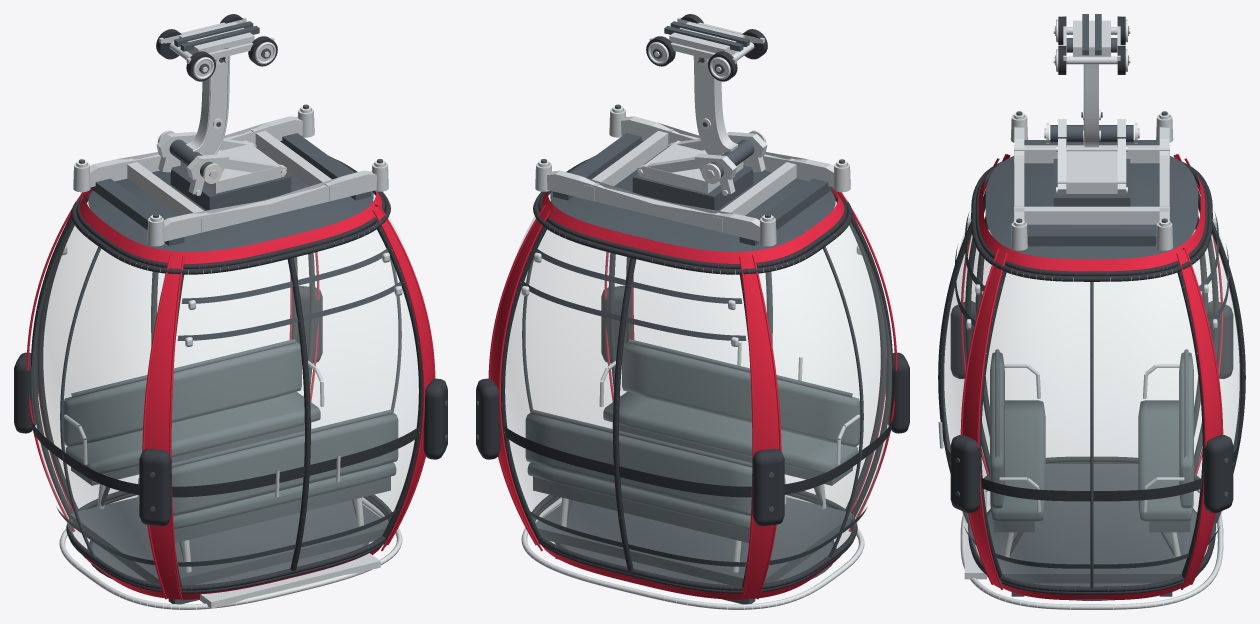
File: darb-cabin.glb
3 renders of one model, left to right at view 1: azimuth 30°, elevation 25°; view 2: azimuth 150°, elevation 25°; view 3: azimuth 270°, elevation 25°, orthographic. The views are drawn at different scales.
Parts seen in each view (by area): view 1: DARB_glass, DARB_cabinGraphite, DARB_cabinSeat, DARB_cabinRubber, DARB_cabinMetal, DARB_cabinRed, DARB_cabinMetalEdge; view 2: DARB_glass, DARB_cabinGraphite, DARB_cabinSeat, DARB_cabinRubber, DARB_cabinMetal, DARB_cabinRed, DARB_cabinMetalEdge; view 3: DARB_glass, DARB_cabinGraphite, DARB_cabinRubber, DARB_cabinMetal, DARB_cabinRed, DARB_cabinSeat, DARB_cabinMetalEdge.
Boxes of the visible parts, x1,y1,x2,y2 form: DARB_glass: (32, 216, 418, 585); DARB_cabinGraphite: (56, 21, 447, 604); DARB_cabinSeat: (63, 342, 398, 529); DARB_cabinRubber: (14, 14, 447, 593); DARB_cabinMetal: (59, 17, 402, 609); DARB_cabinRed: (26, 191, 435, 600); DARB_cabinMetalEdge: (76, 42, 385, 221); DARB_glass: (505, 216, 891, 585); DARB_cabinGraphite: (476, 21, 867, 604); DARB_cabinSeat: (525, 342, 860, 529); DARB_cabinRubber: (476, 14, 909, 593); DARB_cabinMetal: (521, 17, 864, 609); DARB_cabinRed: (488, 191, 897, 600); DARB_cabinMetalEdge: (538, 42, 847, 221); DARB_glass: (943, 216, 1240, 586); DARB_cabinGraphite: (954, 14, 1229, 600); DARB_cabinRubber: (938, 16, 1245, 594); DARB_cabinMetal: (938, 16, 1223, 609); DARB_cabinRed: (960, 154, 1223, 600); DARB_cabinSeat: (990, 352, 1193, 521); DARB_cabinMetalEdge: (1013, 19, 1170, 226).
Bounding box in the file's own units: 2.93 × 4.27 × 2.33.
